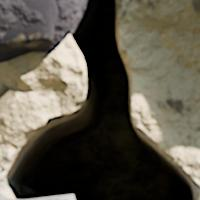brick: (0, 0, 83, 61)
broken_brick: (41, 196, 73, 199), (0, 195, 8, 199)
crack: (2, 0, 197, 199)
